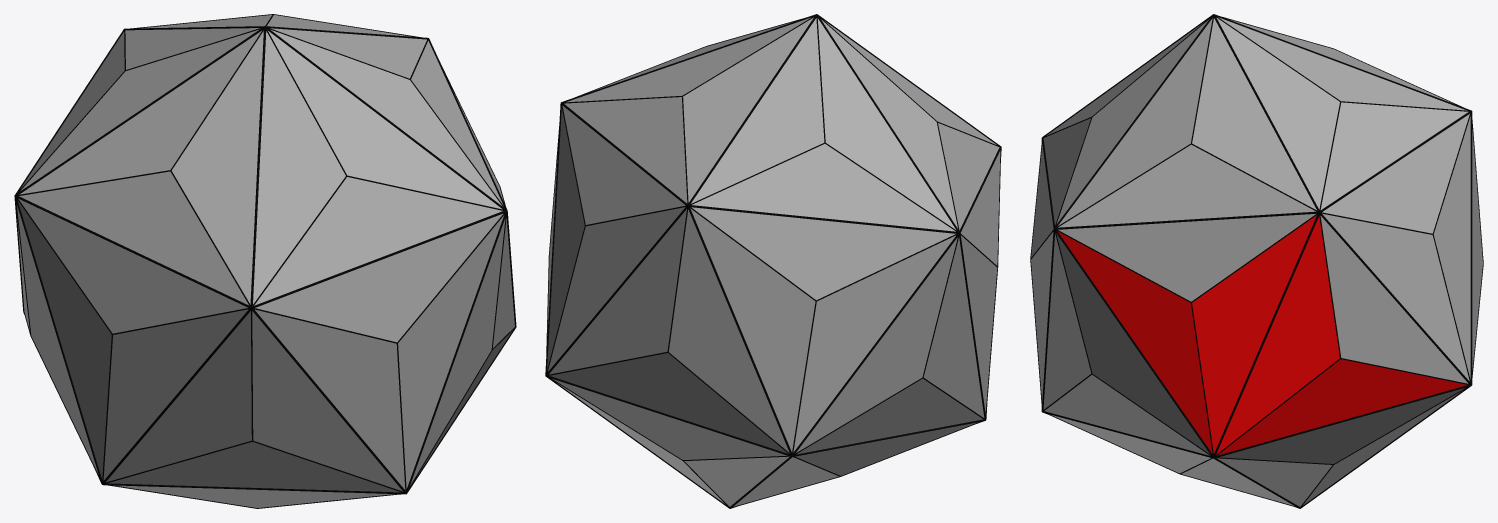
Rendered from TriakisIcosahedron1.glb.
3 renders of one model, left to right at view 1: azimuth 30°, elevation 25°; view 2: azimuth 150°, elevation 25°; view 3: azimuth 270°, elevation 25°, orthographic. The views are drawn at different scales.
Size of the model in its own units: 6.25 by 6.79 by 5.89.
